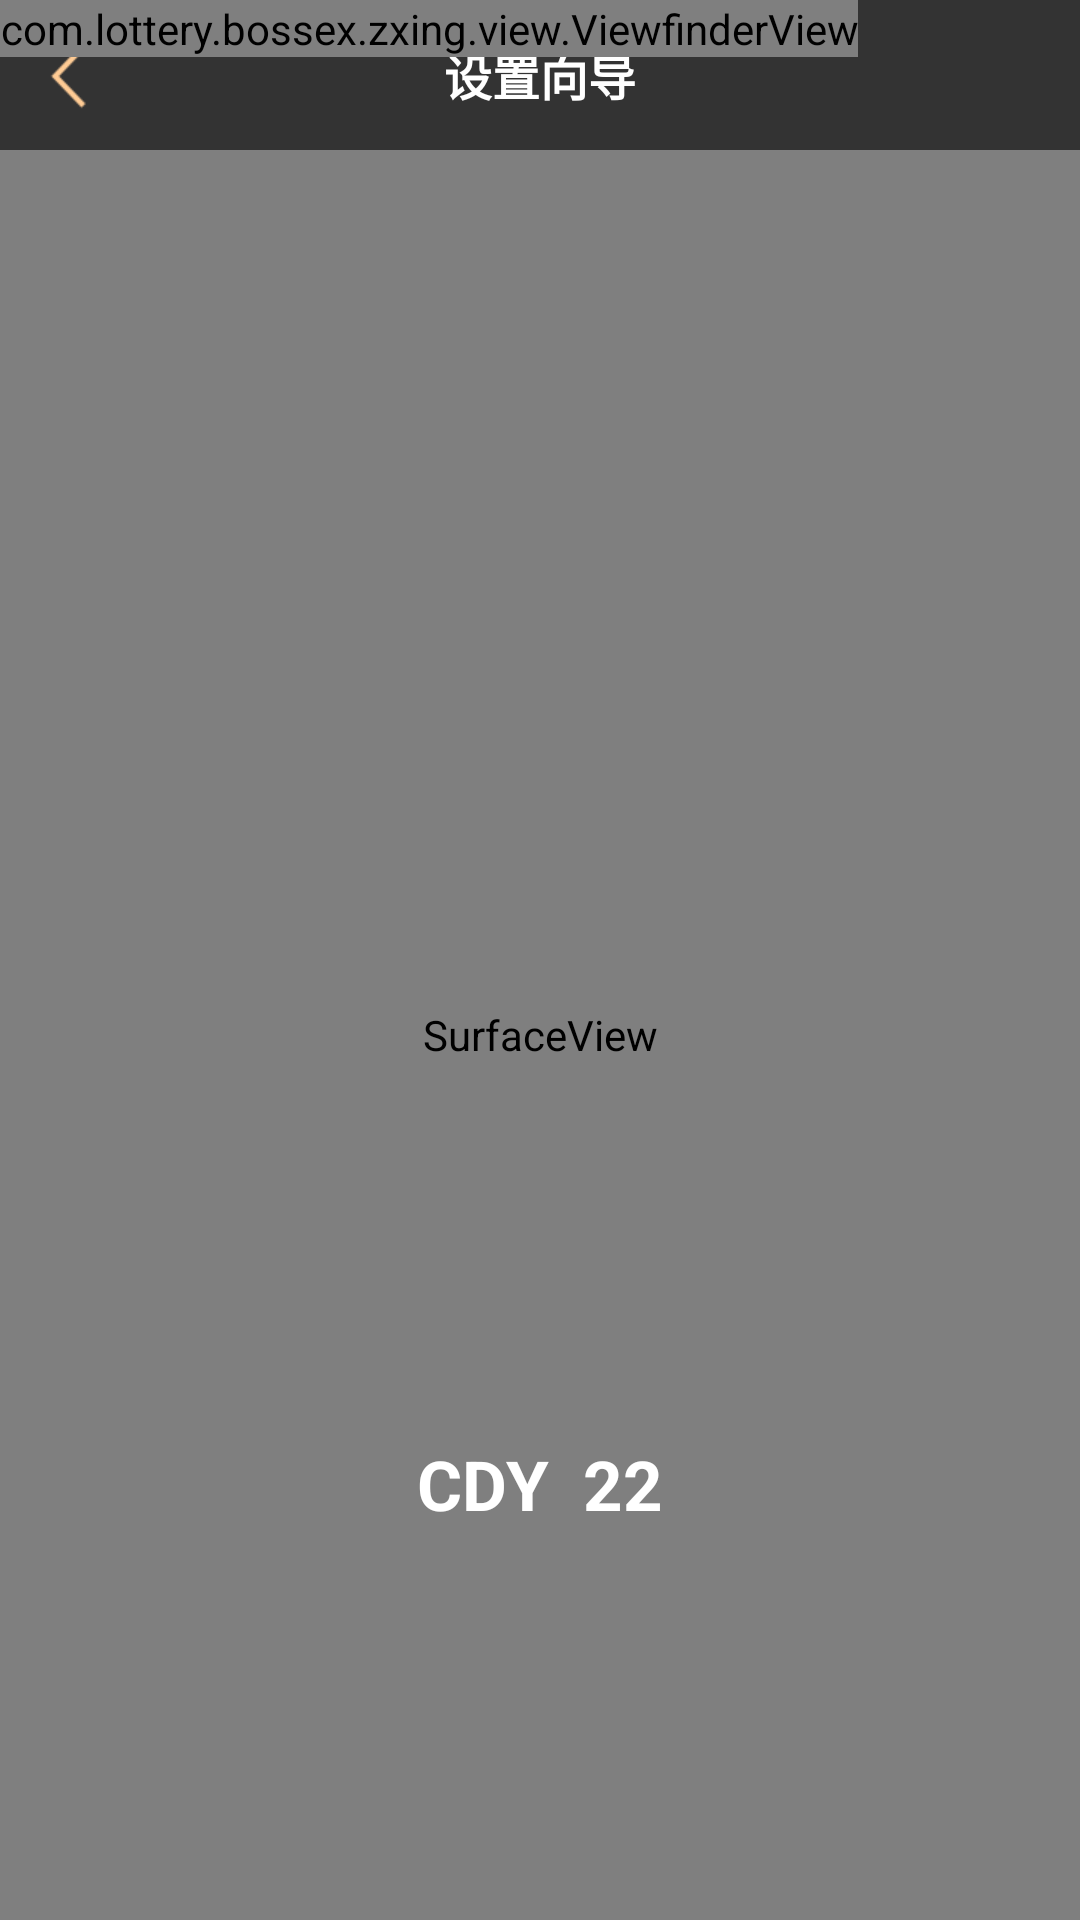

Named icons in this screenshot (1080 x 1920) and their bounding boxes, (x1, y1, x2, y2):
left back: (36, 39, 108, 108)
